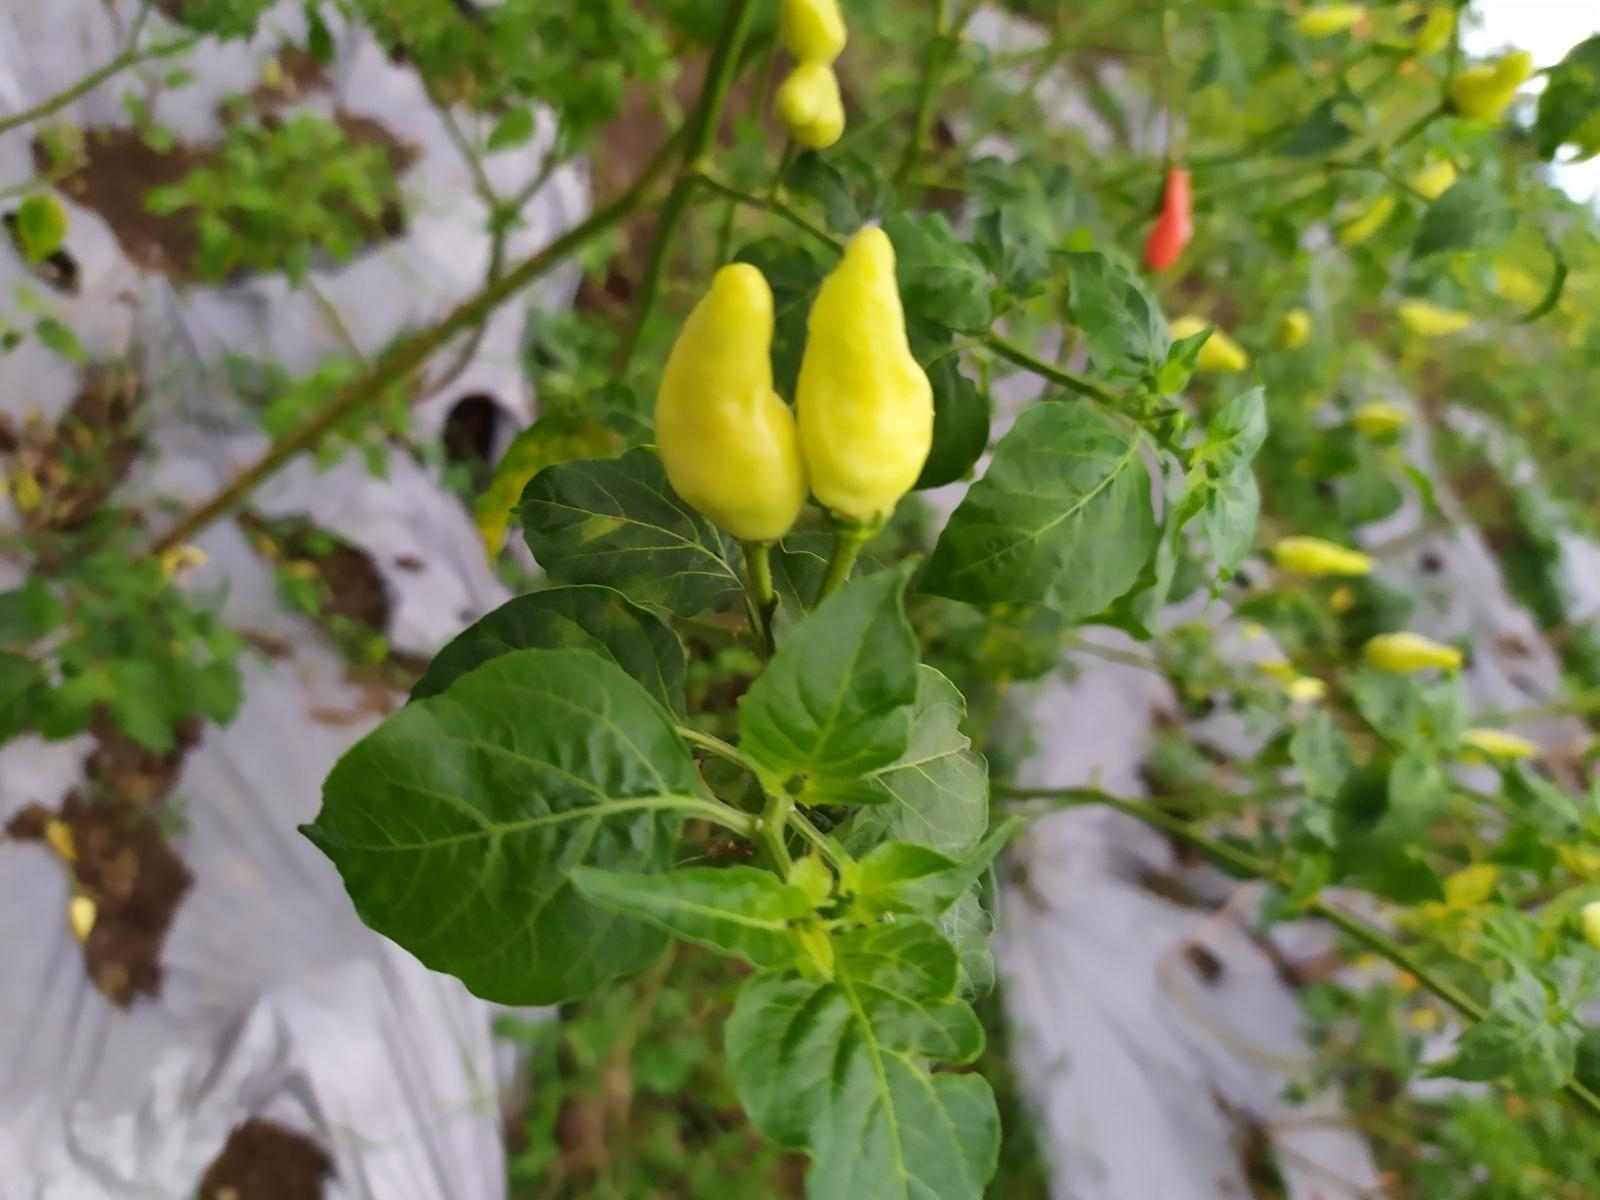cabai_normal: (654, 262, 806, 548), (794, 226, 935, 533), (774, 62, 848, 151), (1141, 165, 1194, 276), (1275, 531, 1377, 576), (772, 1, 845, 62), (1363, 633, 1463, 673)
